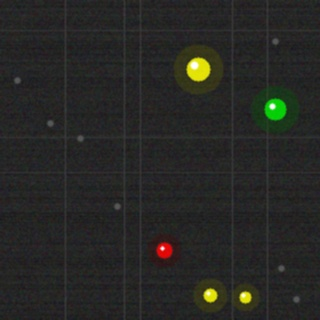green_normal: (262, 96, 288, 122)
red_fault: (154, 240, 174, 260)
yellow_warning: (184, 55, 212, 83), (201, 286, 219, 304), (237, 289, 253, 305)
